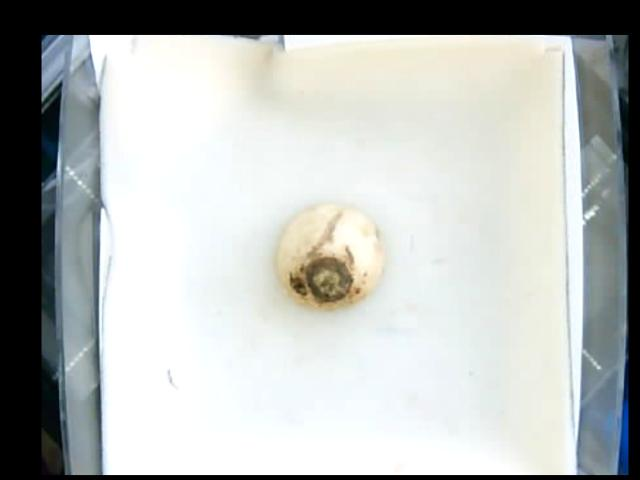Mooli: (277, 203, 382, 310)
